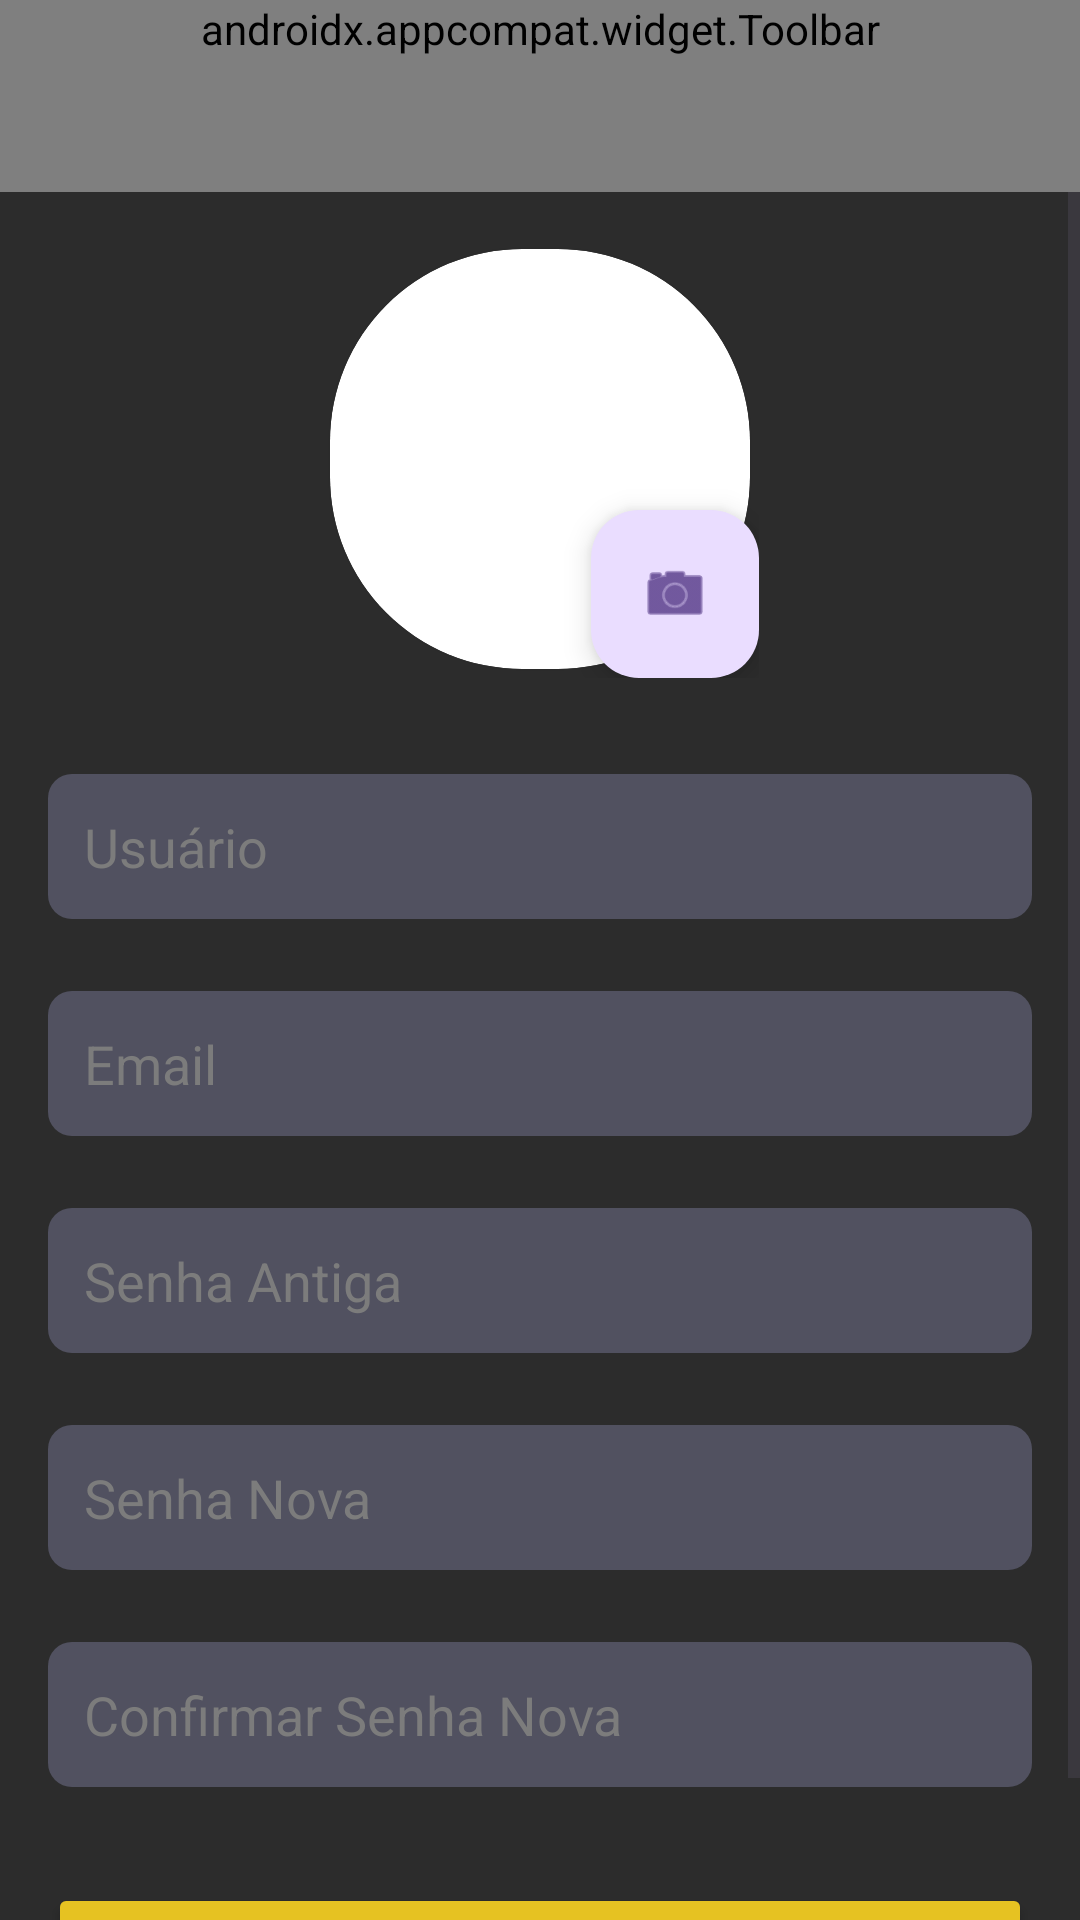

Named icons in this screenshot (1080*1920) and their centers, point (x, y):
camera: point (675, 594)
